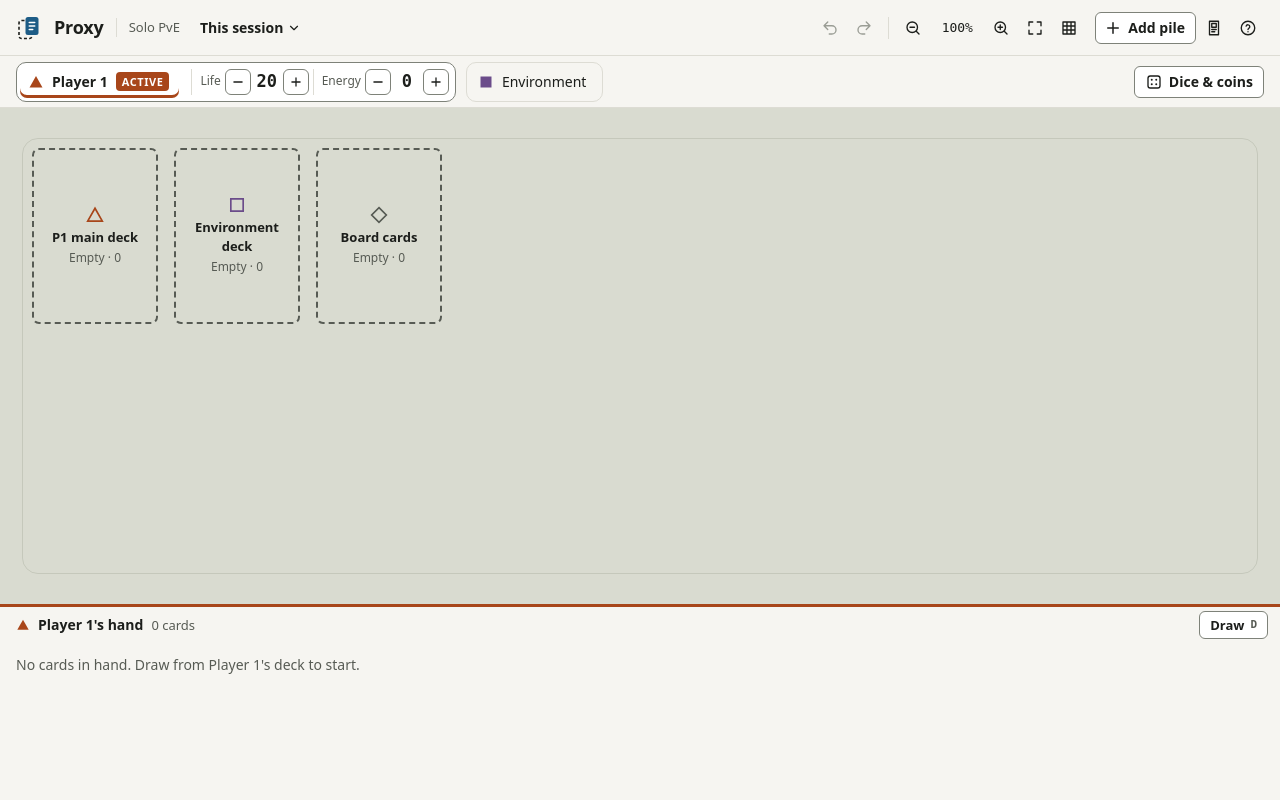
Test: TT-14 session log › lists rolls newest first
Click the button "This session" at (251, 28), box [192, 12, 310, 44]
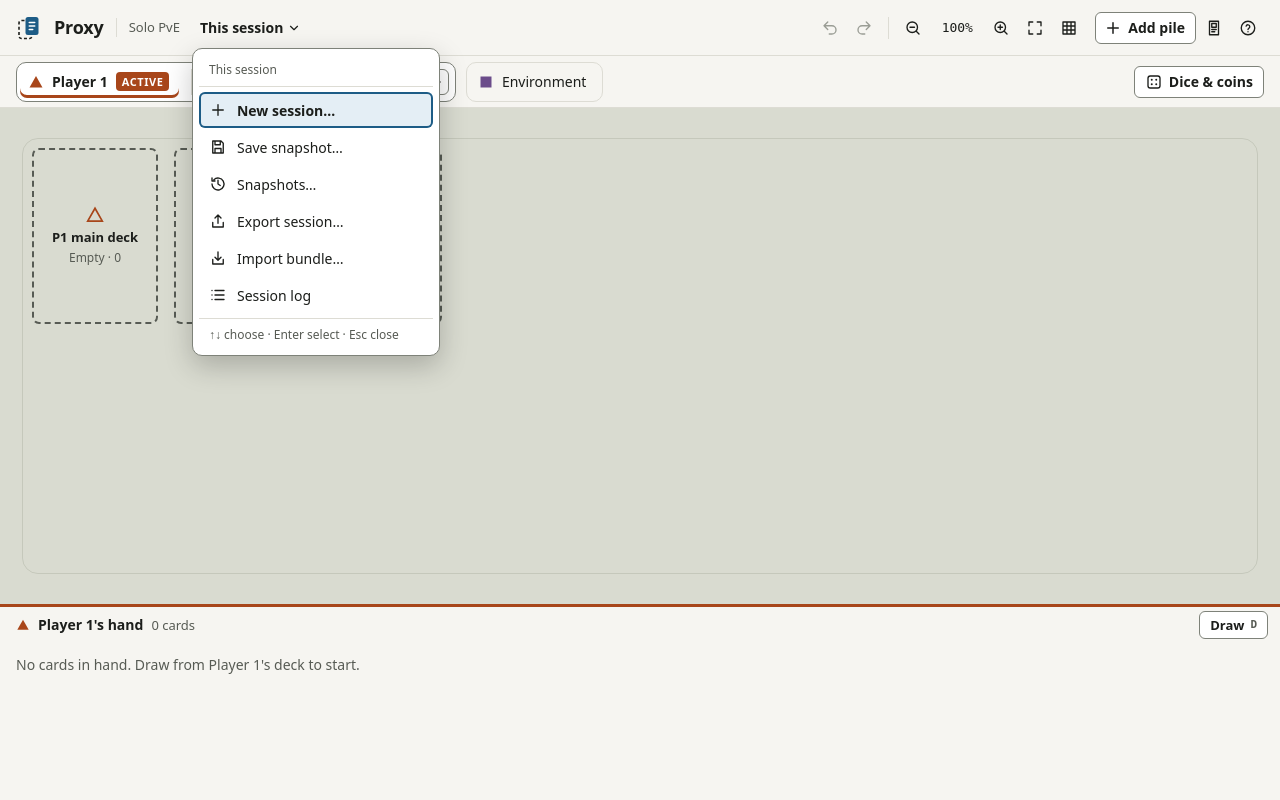
Click the menu item "Session log" at (316, 295), box [199, 277, 433, 313]
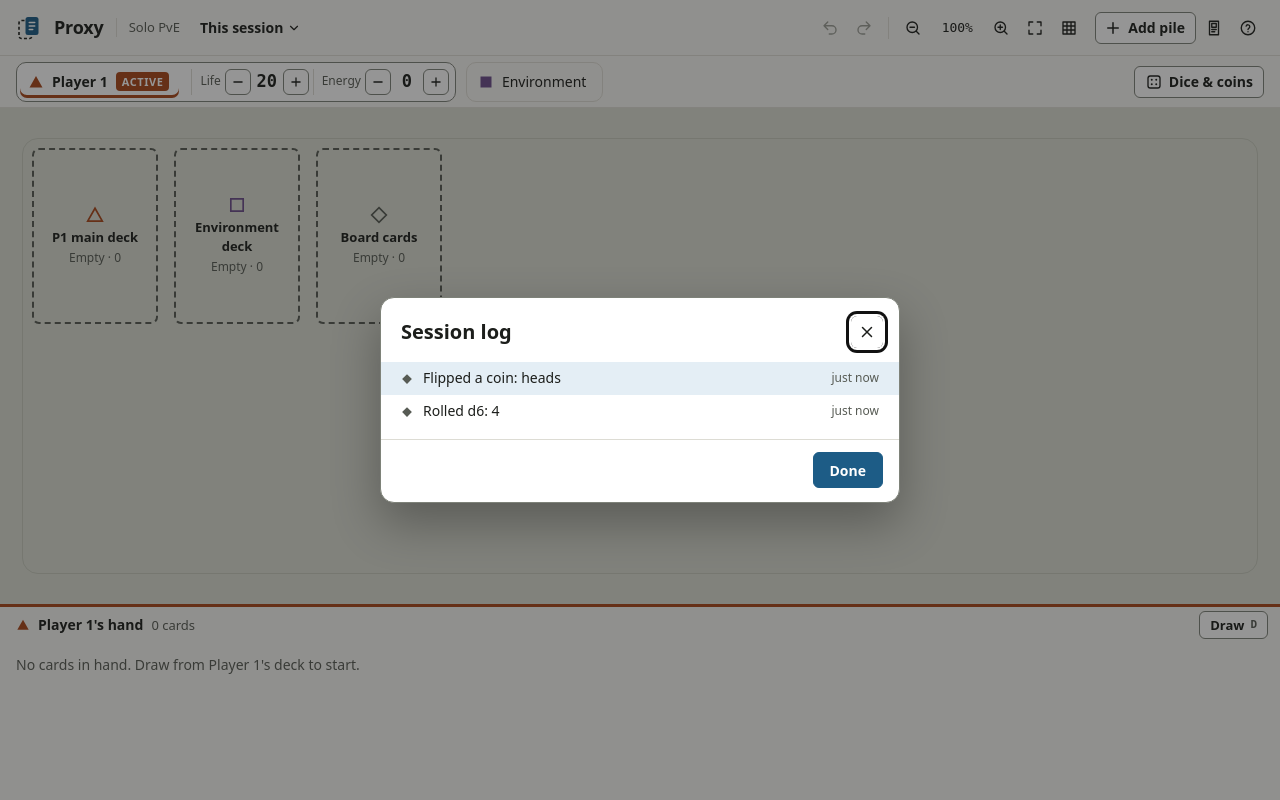
expect the list item "Flipped a coin: heads just now" is shown: met, box [381, 362, 899, 394]
expect the list item "Rolled d6: 4 just now" is shown: met, box [401, 400, 879, 420]
